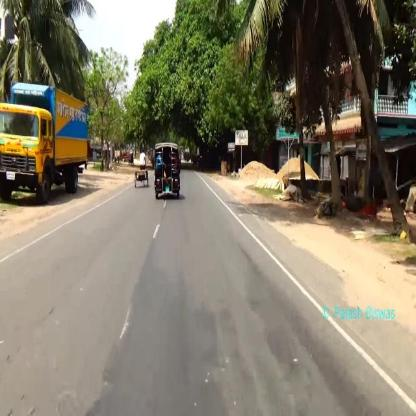truck: (0, 81, 92, 211)
